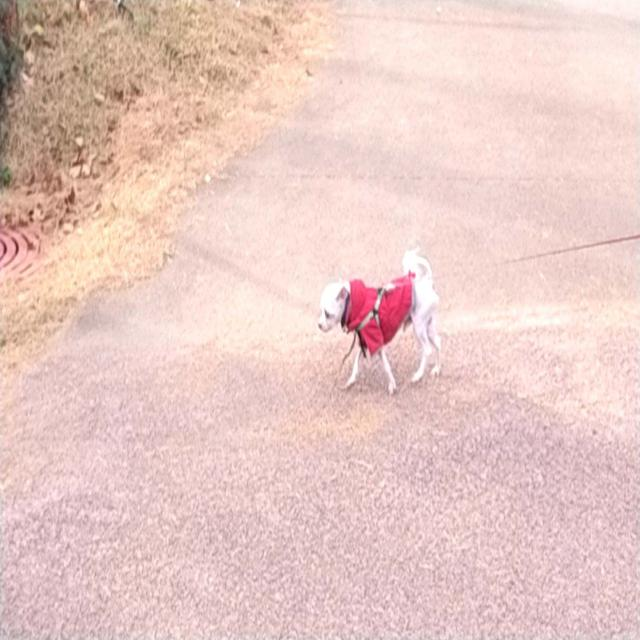Dog: (318, 245, 443, 396)
